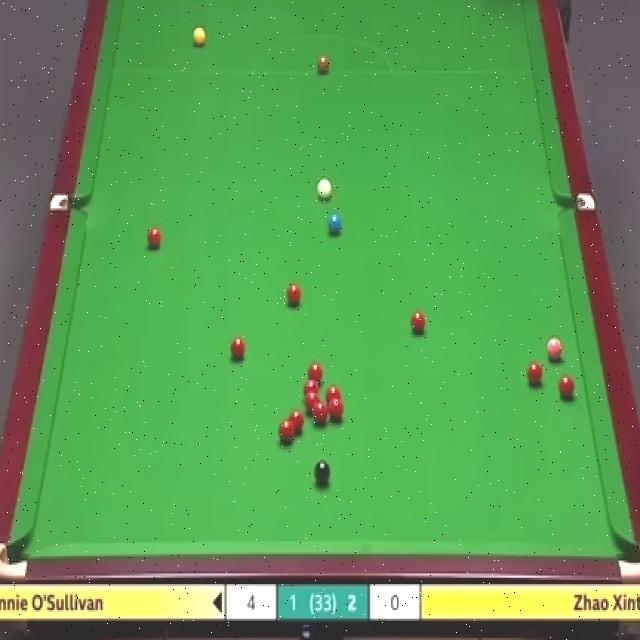black-ball: (313, 460, 331, 482)
blue-ball: (326, 212, 344, 236)
brown-ball: (316, 54, 329, 75)
pink-ball: (545, 337, 565, 362)
red-ball: (527, 358, 543, 386), (557, 374, 575, 398), (286, 282, 302, 308), (279, 418, 295, 444), (409, 309, 426, 333), (329, 396, 344, 422), (230, 335, 246, 359), (289, 409, 304, 434), (307, 361, 323, 384), (313, 401, 328, 425), (146, 228, 162, 250), (302, 379, 319, 398), (305, 392, 319, 414), (326, 384, 342, 401)
white-ball: (316, 176, 333, 201)
yellow-ball: (192, 27, 205, 49)
